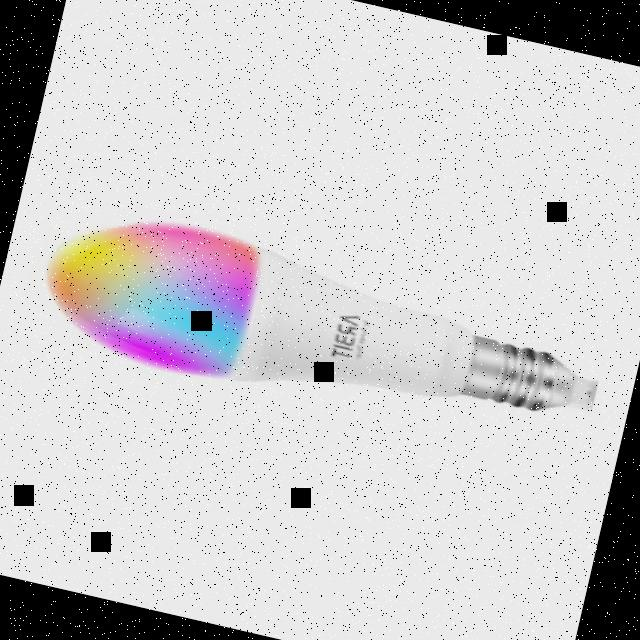light_bulb: (12, 177, 630, 473)
